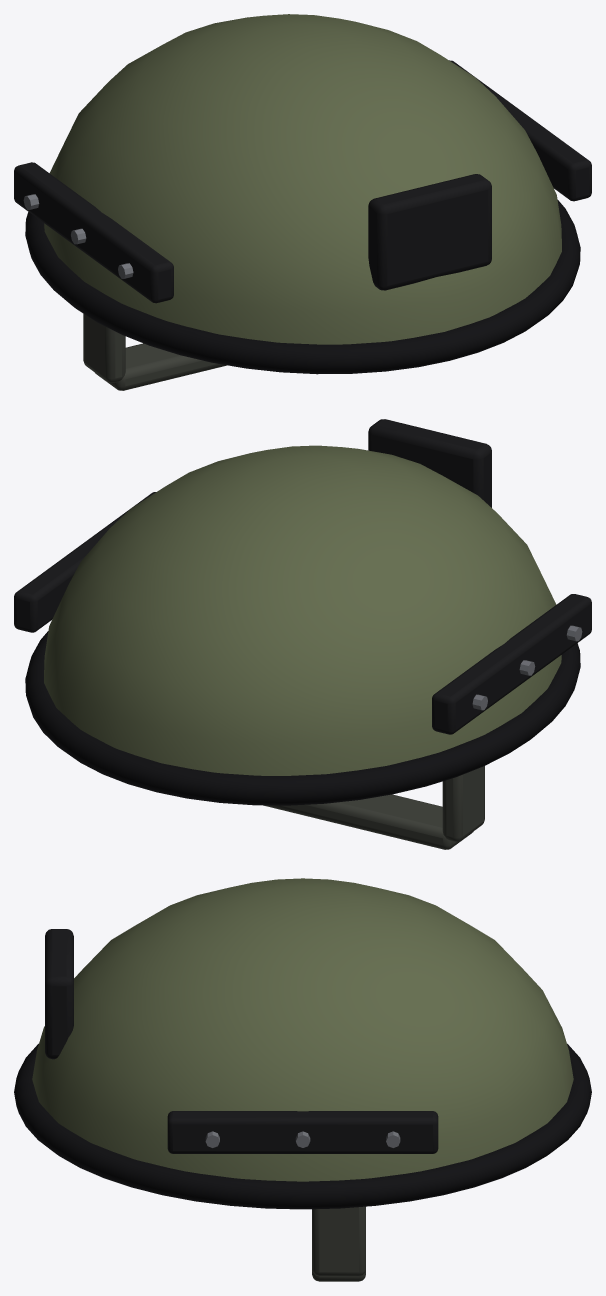
The model's file is casco_1.glb.
3 renders of one model, top to bottom at view 1: azimuth 30°, elevation 25°; view 2: azimuth 150°, elevation 25°; view 3: azimuth 270°, elevation 25°, orthographic. The views are drawn at different scales.
Parts seen in each view (by area): view 1: Sphere; view 2: Sphere; view 3: Sphere.
Part boxes in pixels (x1,y1,x2,y2): Sphere: [14, 14, 591, 390]; Sphere: [14, 419, 591, 849]; Sphere: [14, 878, 591, 1281].
Bounding box in the file's own units: 0.286 × 0.1808 × 0.3203.
